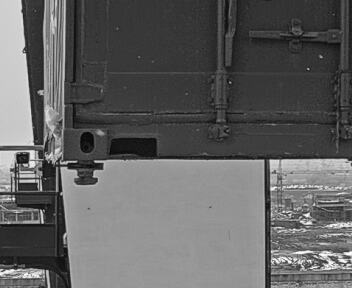twist_lock_1: (61, 155, 108, 194)
